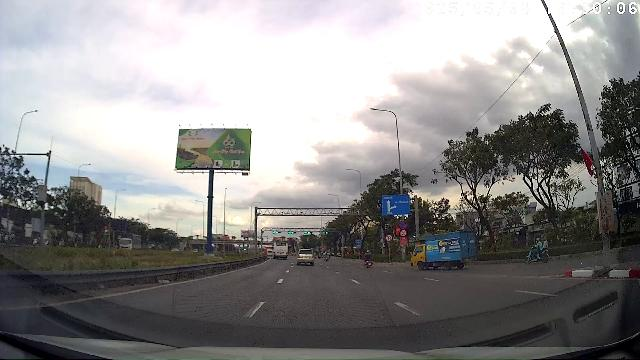130-cam-dung-va-do-xe: (398, 221, 408, 229)
